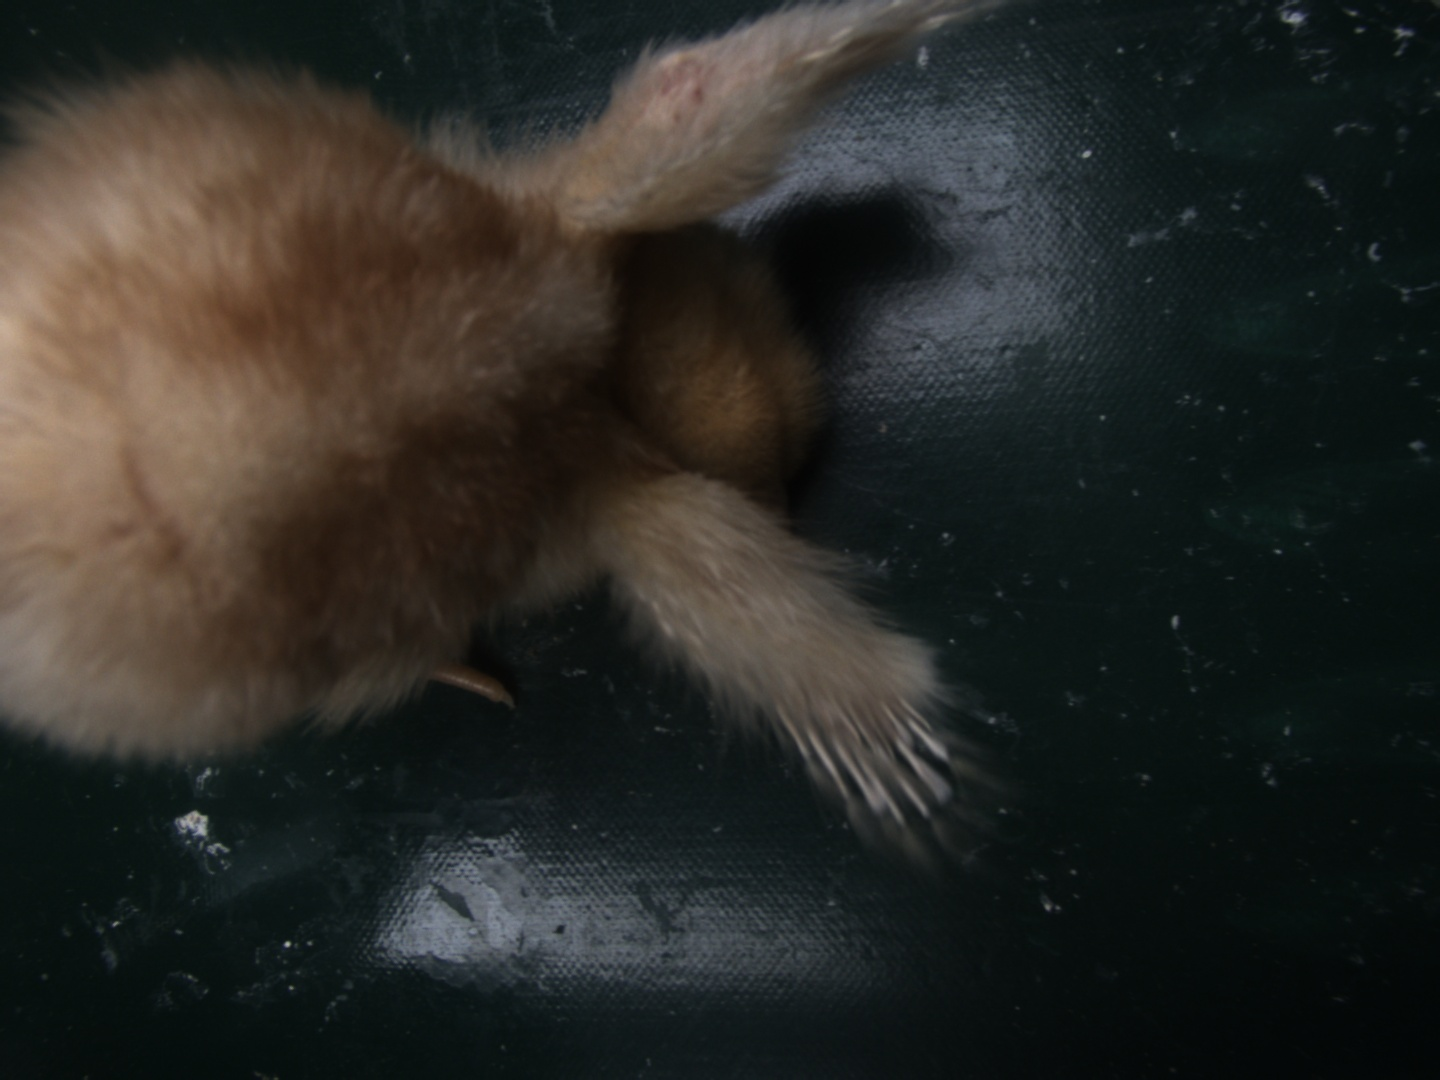female: (774, 690, 965, 822)
